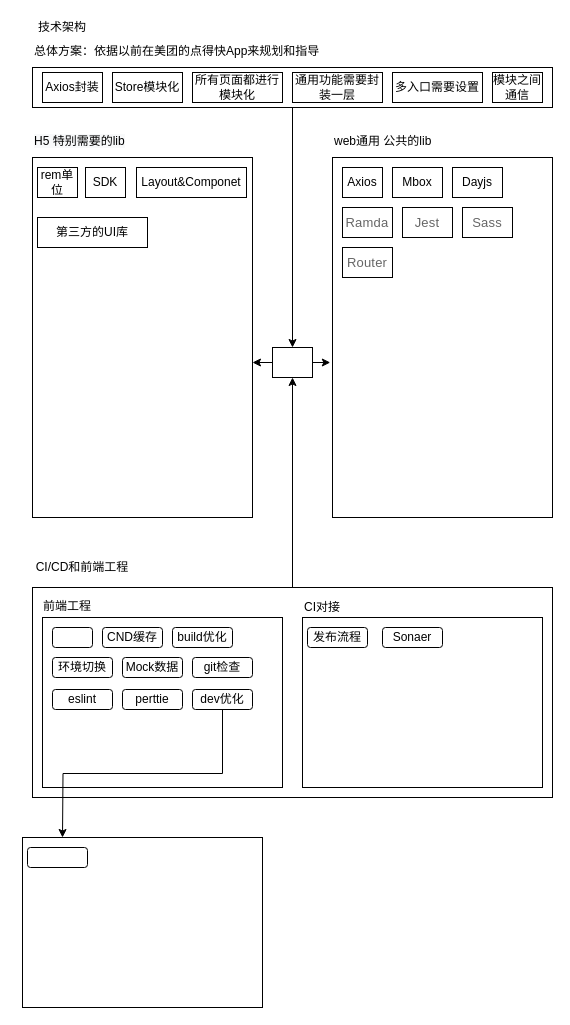
This 570x1025 diagram has some shape labels left out. Here are the shapes that lost their labels. From the top down, the centre of each, then its label:
At point 292,362: "react".
At point 72,637: "多入口".
At point 57,857: "路径简写".
